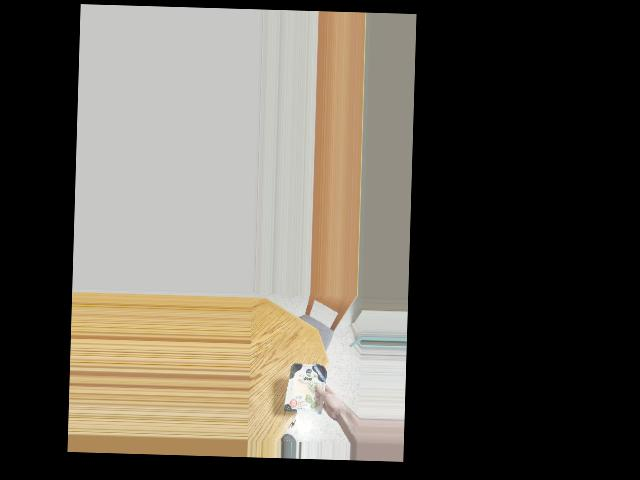cheese: (290, 356, 330, 423)
